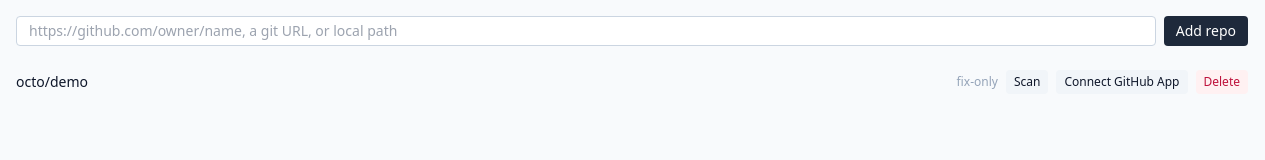
surfaces an error when connect fails
Expected: the text "octo/demo" is shown, [16,72,88,92]
Click the button "Connect GitHub App": (1122, 82) [1056,70,1188,94]
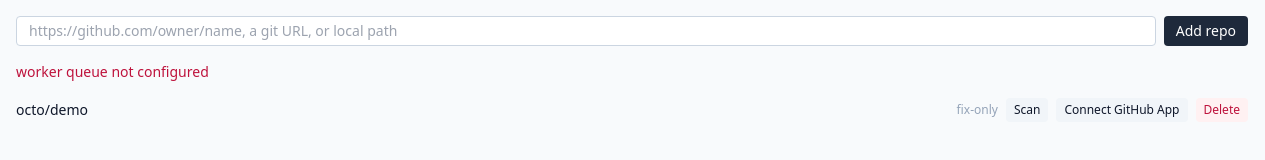
Now the text "worker queue not configured" is shown, box [16,62,209,81]
